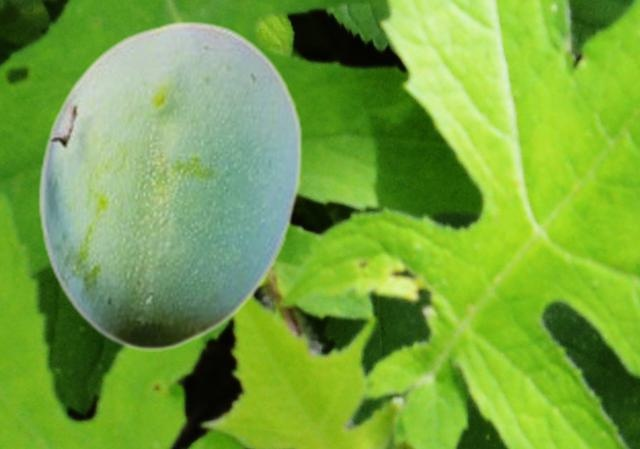green_mango: (37, 20, 302, 350)
